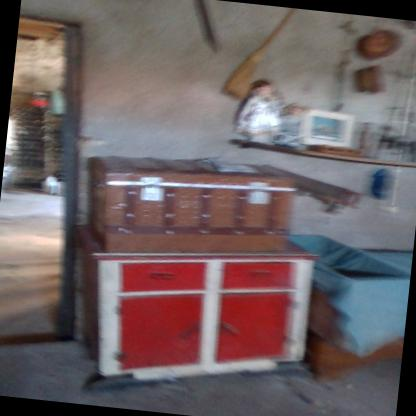semi: (0, 0, 118, 371)
